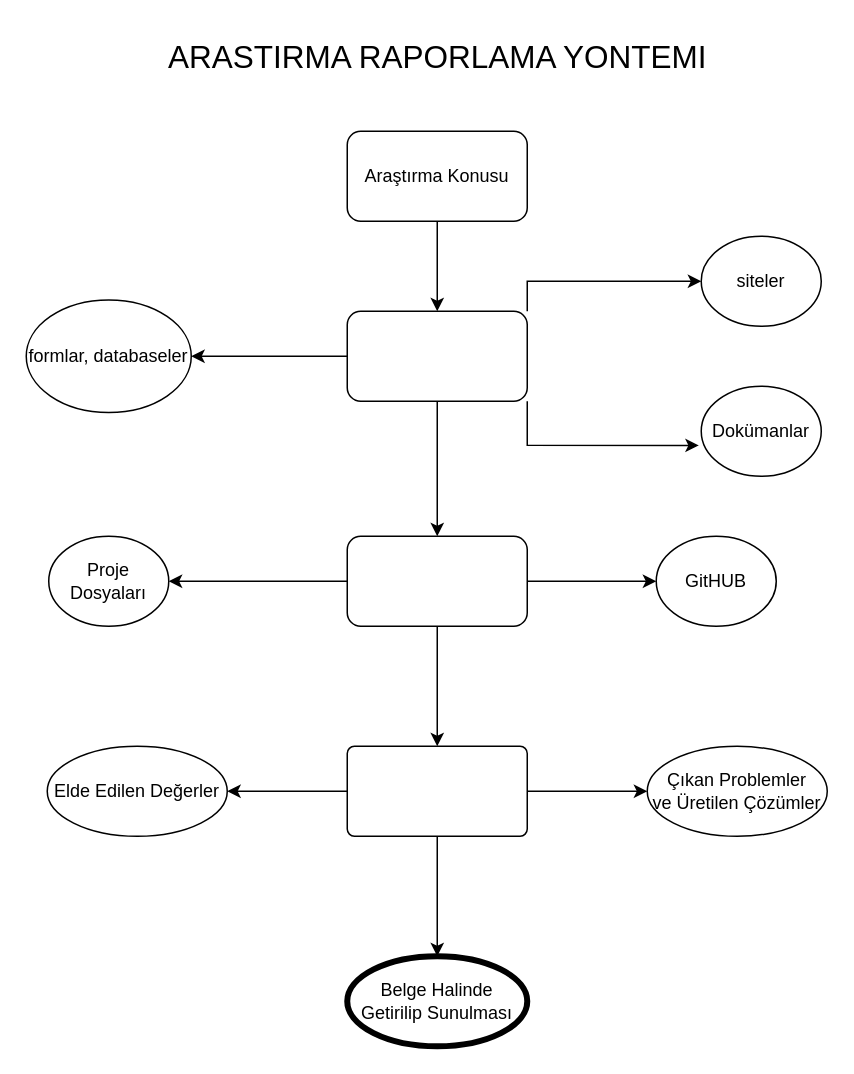
Image size: 854x1074. Some labels were removed from this diagram. The shapes that lost their labels are listed below. From the top down, each one's centre as x and y in pixels, then its label:
At (x=436, y=355): "Kaynak Açıklaması".
At (x=436, y=580): "Çalışmaların Paylaşımı".
At (x=436, y=790): "Özet Değerlendirme".
